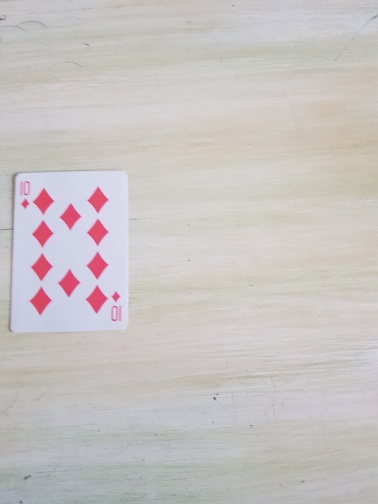ten: (9, 168, 130, 335)
